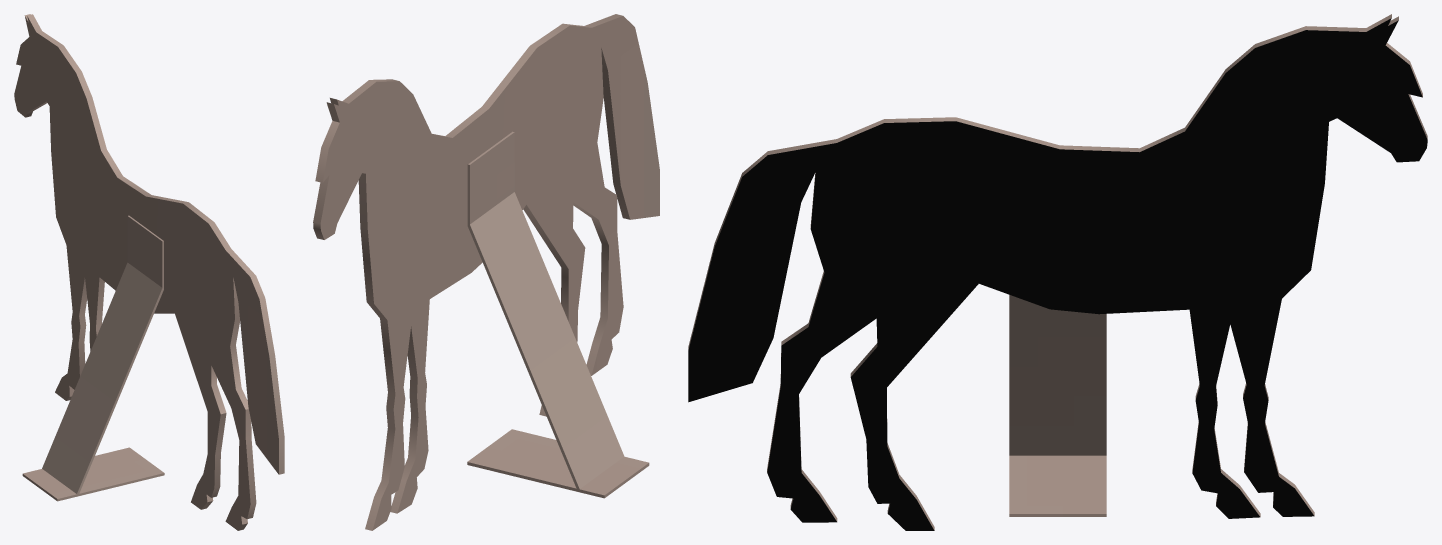
The model's file is Hest 1.FBX.
The picture shows the model from 3 angles, left to right: view 1: azimuth 30°, elevation 25°; view 2: azimuth 150°, elevation 25°; view 3: azimuth 270°, elevation 25°; orthographic projection. The views are drawn at different scales.
Parts seen in each view (by area): view 1: Hest 1; view 2: Hest 1; view 3: Hest 1.
Boxes of the visible parts, left/top/right/bottom form: Hest 1: left=14, top=14, right=284, bottom=530; Hest 1: left=313, top=14, right=659, bottom=530; Hest 1: left=688, top=14, right=1427, bottom=530.
Size of the model in its own units: 58.11 by 181 by 237.
